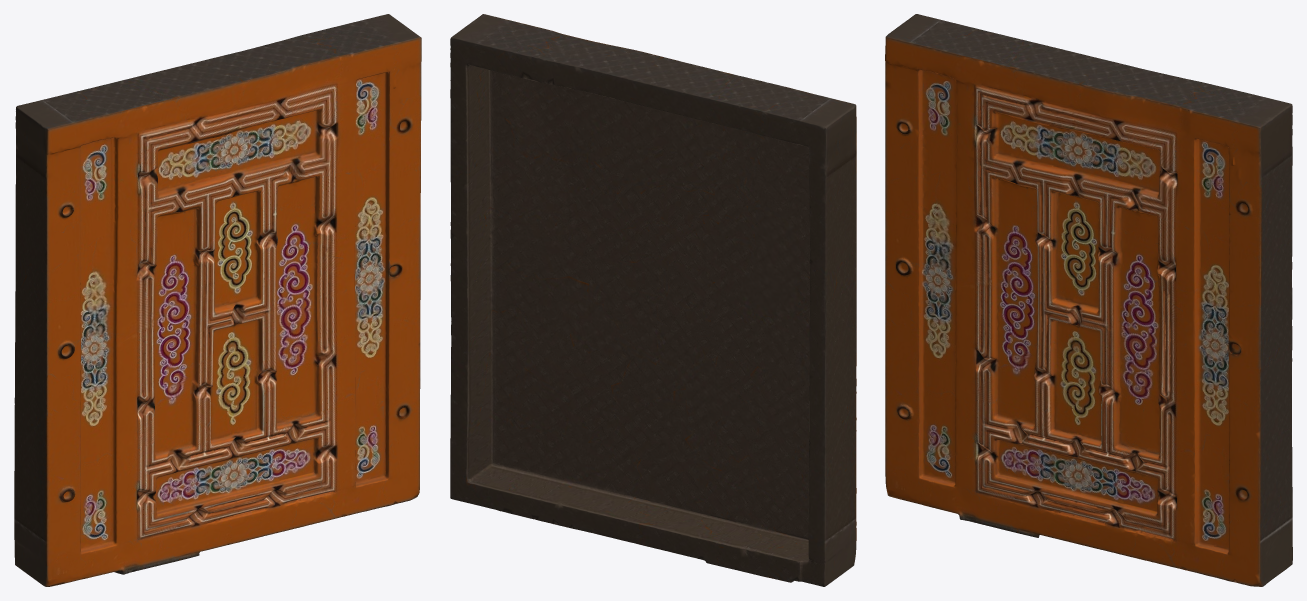
The model's file is door.glb.
The picture shows the model from 3 angles, left to right: view 1: azimuth 30°, elevation 25°; view 2: azimuth 150°, elevation 25°; view 3: azimuth 330°, elevation 25°; orthographic projection.
Size of the model in its own units: 1.61 by 1.9 by 0.2665.
Materials: 1 (1 with a texture image).
